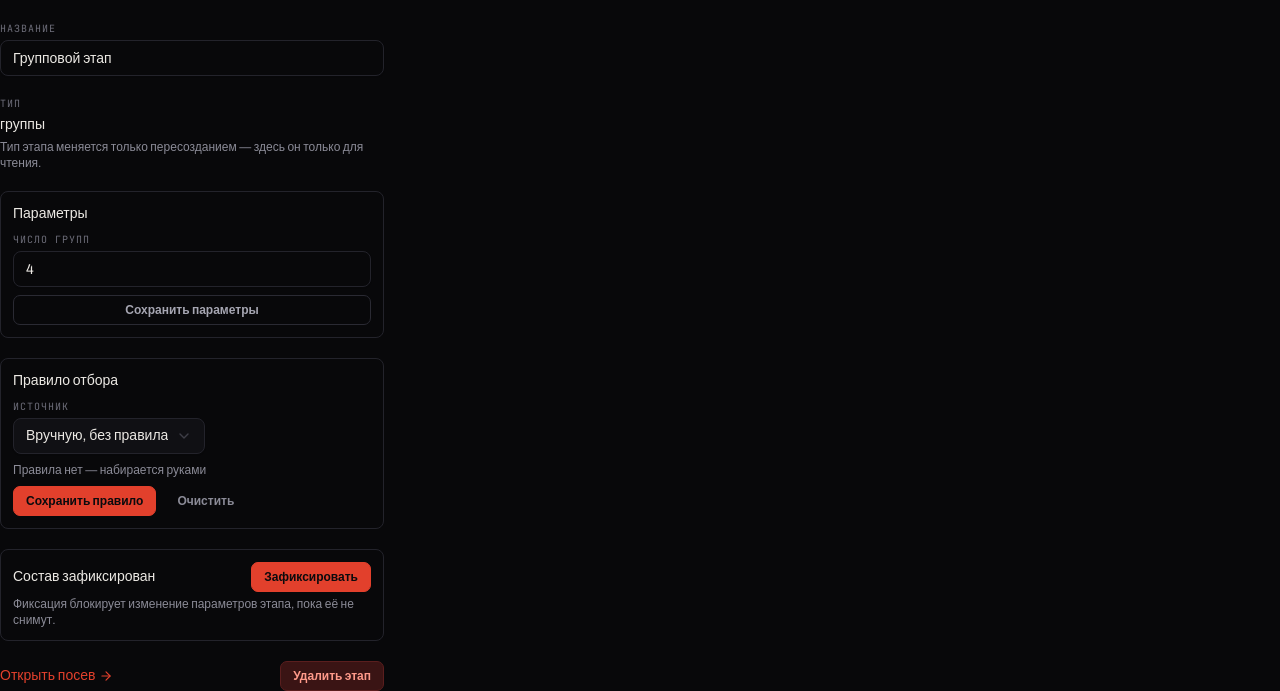
Scenario: StageInspector (спека 0031, T13) › delete requires confirmation via ConfirmDialog with consequences listed (AC-15/FR-24)
What coordinates should you click on to do the following:
click the button "Удалить этап"
I would click on:
 (332, 676)
Its box is [280, 661, 384, 690].
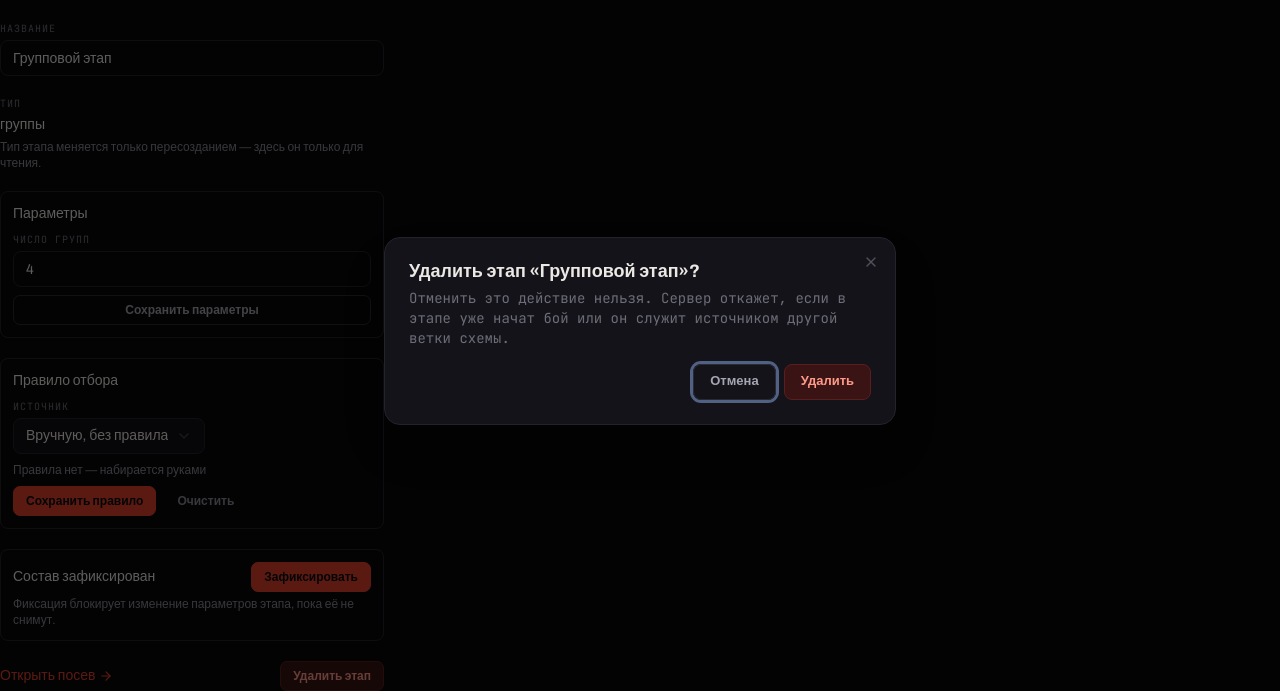
Now the heading "Удалить этап «Групповой этап»?" is shown, box [409, 261, 700, 281]
